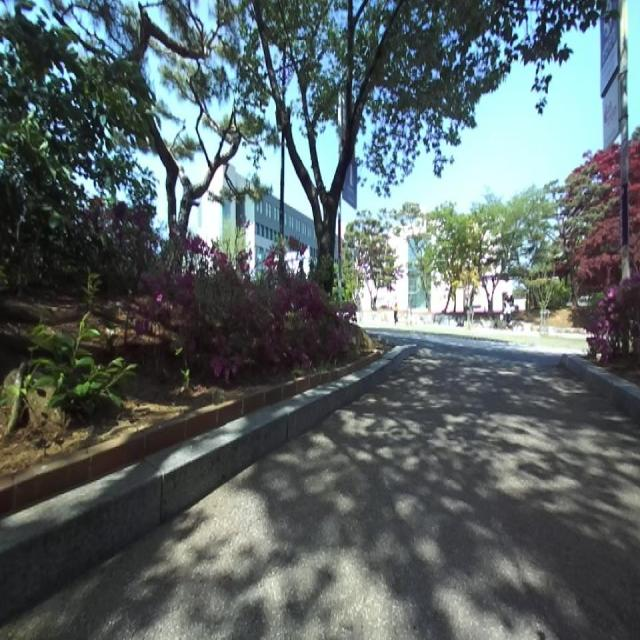sidewalk: (0, 340, 640, 639)
